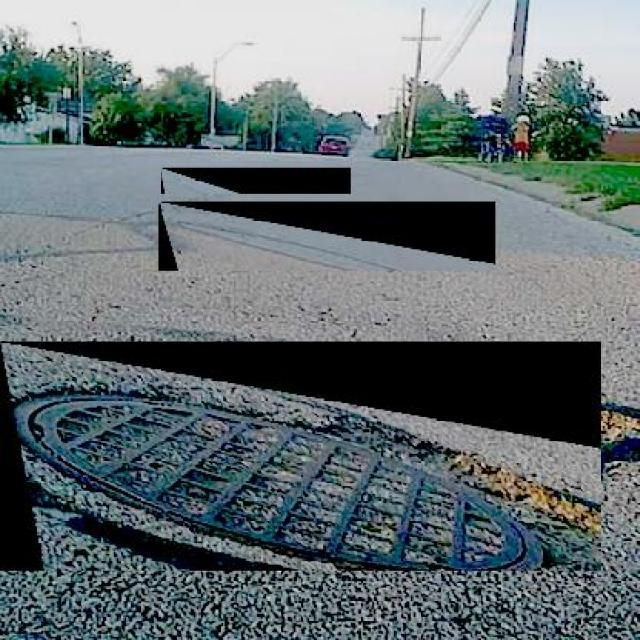Manhole: (0, 342, 600, 570), (158, 202, 496, 270), (160, 168, 351, 194)
